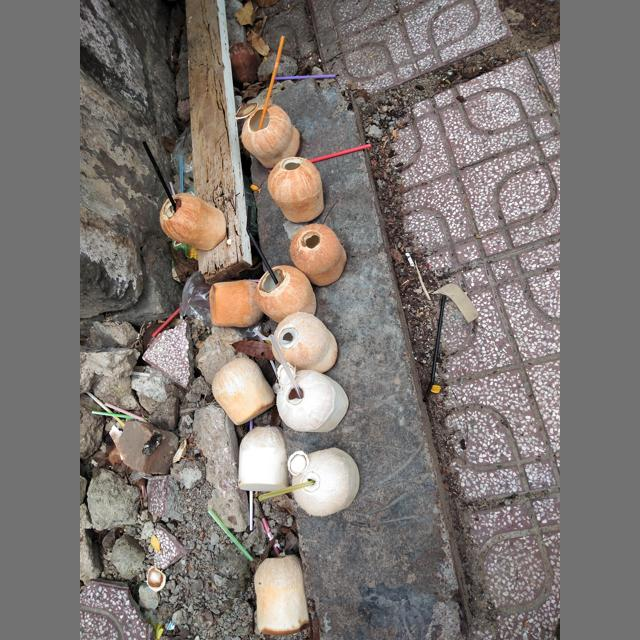litter: (258, 36, 285, 130), (246, 206, 278, 285), (208, 509, 254, 562), (142, 141, 176, 212), (423, 296, 445, 402), (268, 335, 303, 398), (431, 284, 479, 324), (179, 270, 212, 326), (86, 391, 125, 427), (170, 244, 198, 287), (308, 144, 371, 163), (258, 481, 315, 501), (173, 126, 194, 180), (172, 240, 198, 282), (104, 402, 150, 424), (243, 174, 258, 235), (152, 307, 180, 337), (262, 518, 280, 556), (225, 322, 262, 340), (253, 328, 291, 343), (146, 616, 163, 640), (275, 74, 335, 80), (92, 411, 136, 419), (129, 470, 151, 481), (179, 155, 183, 193), (131, 371, 152, 377), (270, 361, 277, 379), (250, 491, 253, 531), (405, 253, 414, 266), (186, 183, 195, 195), (231, 279, 259, 282), (169, 182, 175, 195), (431, 386, 441, 393), (141, 486, 147, 497), (168, 621, 175, 630), (250, 420, 253, 431), (141, 417, 149, 421)
